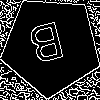B: (26, 21, 69, 74)
